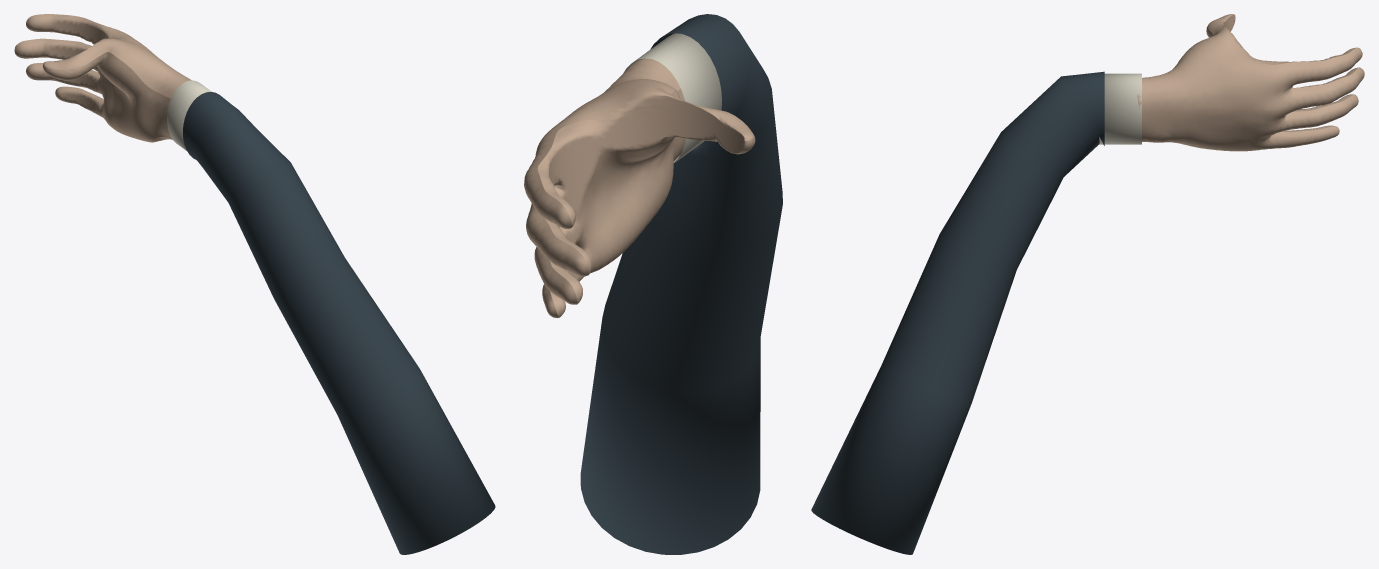
File: hand-cup.glb
3 views of the same model, side by side, from view 1: azimuth 30°, elevation 25°; view 2: azimuth 150°, elevation 25°; view 3: azimuth 270°, elevation 25° (orthographic). The views are drawn at different scales.
Visible parts, largest first — view 1: held-drink-sleeve, webxr-cup-skin, shirt-cuff; view 2: held-drink-sleeve, webxr-cup-skin, shirt-cuff; view 3: held-drink-sleeve, webxr-cup-skin, shirt-cuff.
Boxes of the visible parts, <box> form: held-drink-sleeve: <box>183,92,495,554</box>; webxr-cup-skin: <box>14,14,191,142</box>; shirt-cuff: <box>167,80,211,150</box>; held-drink-sleeve: <box>580,14,782,554</box>; webxr-cup-skin: <box>524,58,755,318</box>; shirt-cuff: <box>623,33,721,163</box>; held-drink-sleeve: <box>811,71,1104,554</box>; webxr-cup-skin: <box>1137,14,1364,151</box>; shirt-cuff: <box>1099,73,1141,144</box>.
Bounding box in the file's own units: 0.2512 × 0.3767 × 0.4289.
